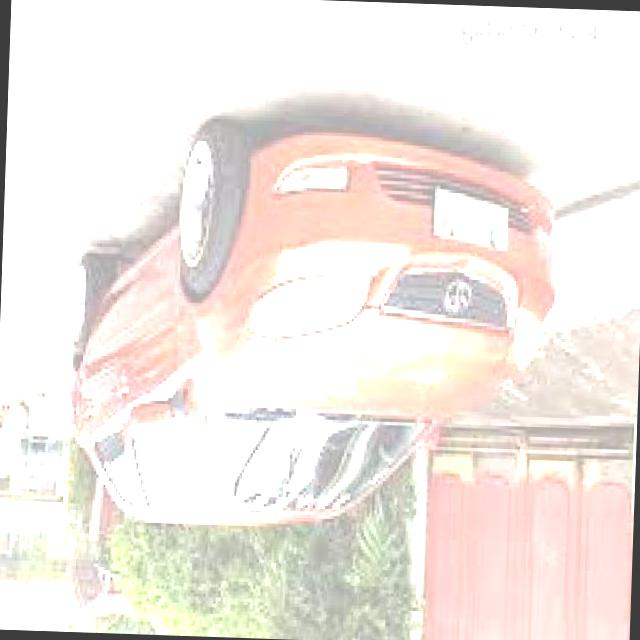ToyotaVios: (63, 113, 562, 540)
